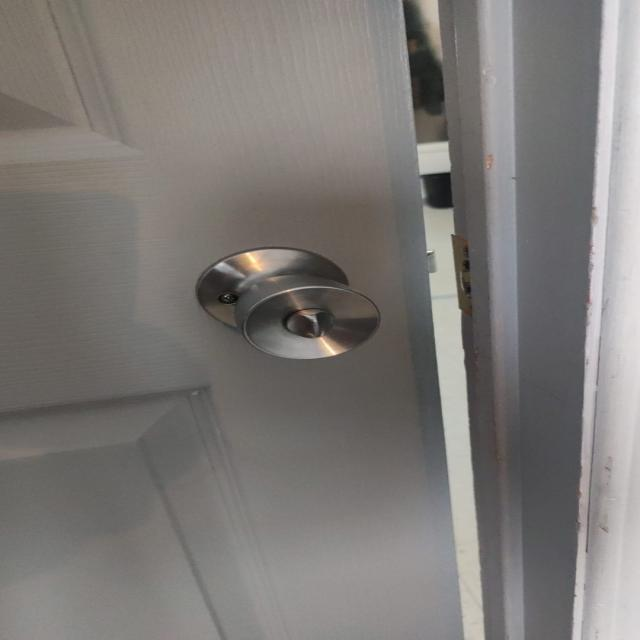door-knob: (198, 248, 380, 359)
